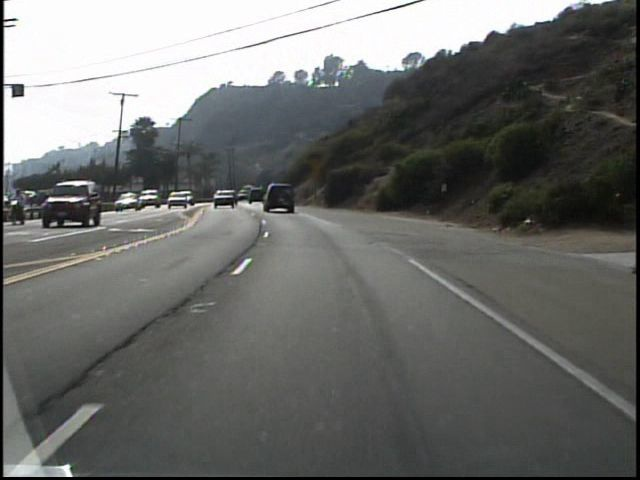person: (21, 188, 37, 224)
